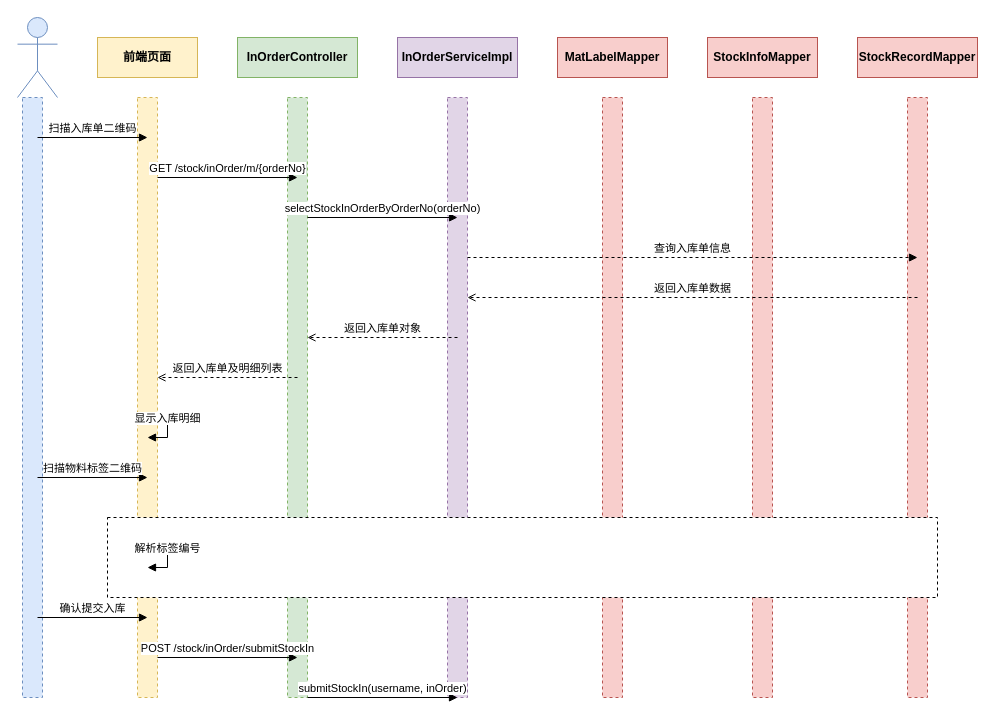
The diagram is 995 pixels wide and 723 high, and some of its shapes have lost their labels. The centre of each missing label's shape, as x and y in pixels:
loop (扫描每个物料标签): (x=522, y=557)
仓管员: (x=37, y=57)
